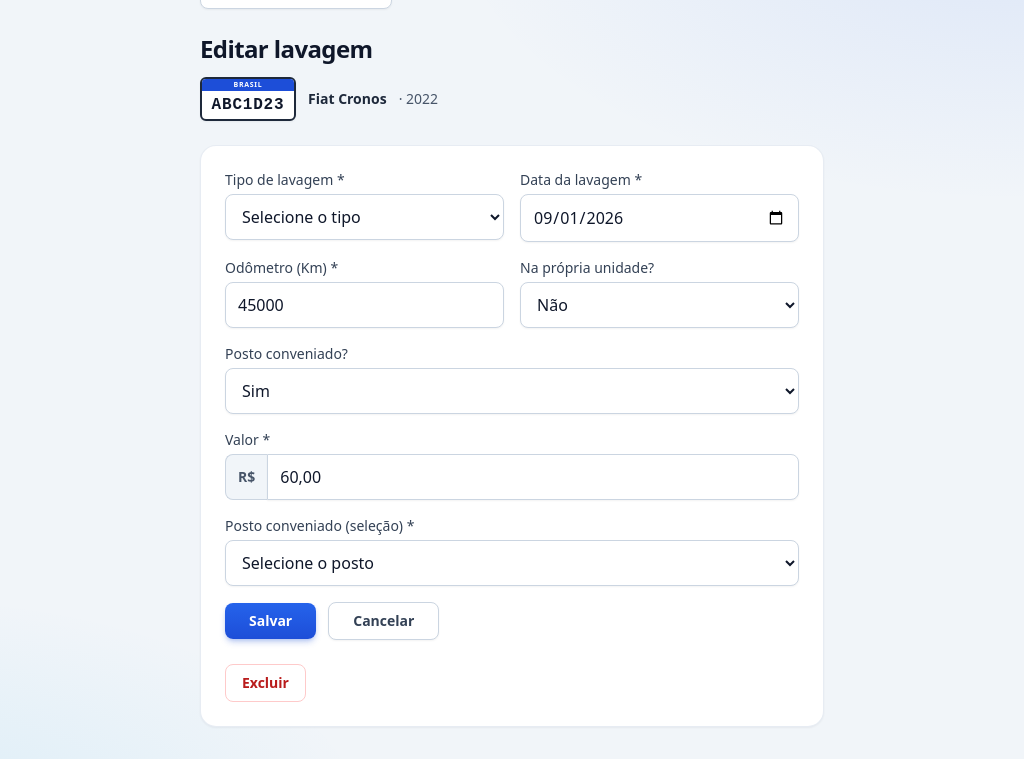
Test: LavagemFormPage — exclusão (Req. 9.1–9.5 / R17/R18) › Req. 9.5: falha na exclusão exibe toast de erro e NÃO navega
(page scrolled)
Check: the date field labelled "Data da lavagem *" holds "2026-09-01", box [520, 194, 799, 242]
Click the button "Excluir" at (266, 683), box [225, 664, 306, 702]
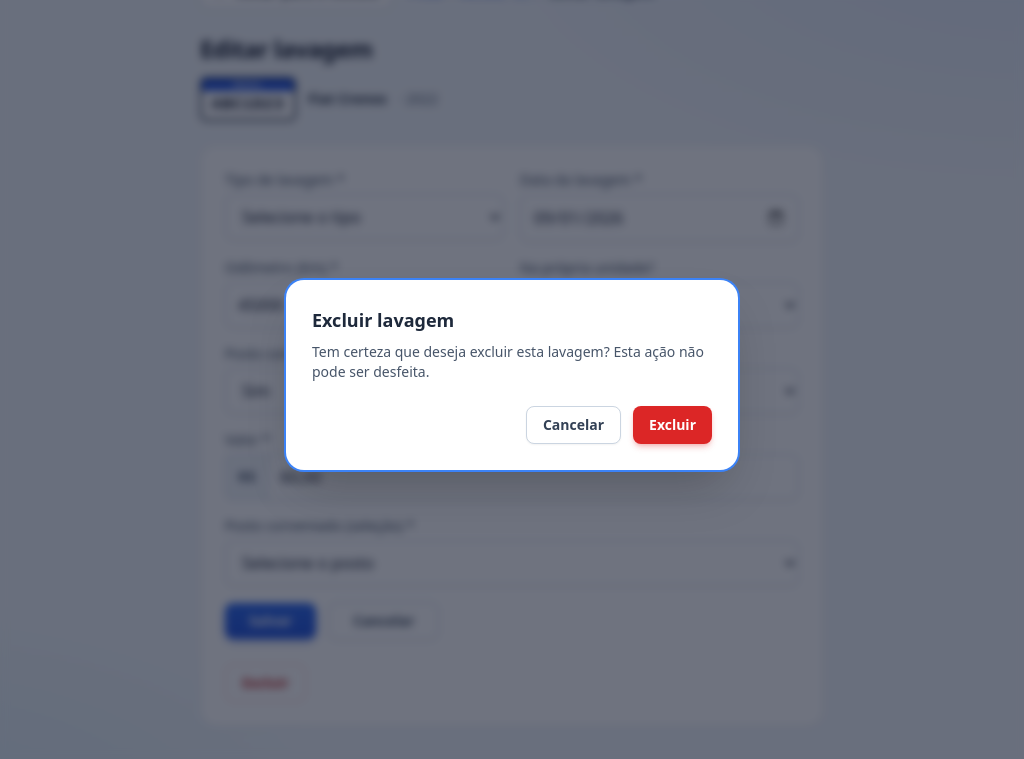
Click the button "Excluir" below "Excluir lavagem" at (672, 425), box [633, 406, 712, 444]
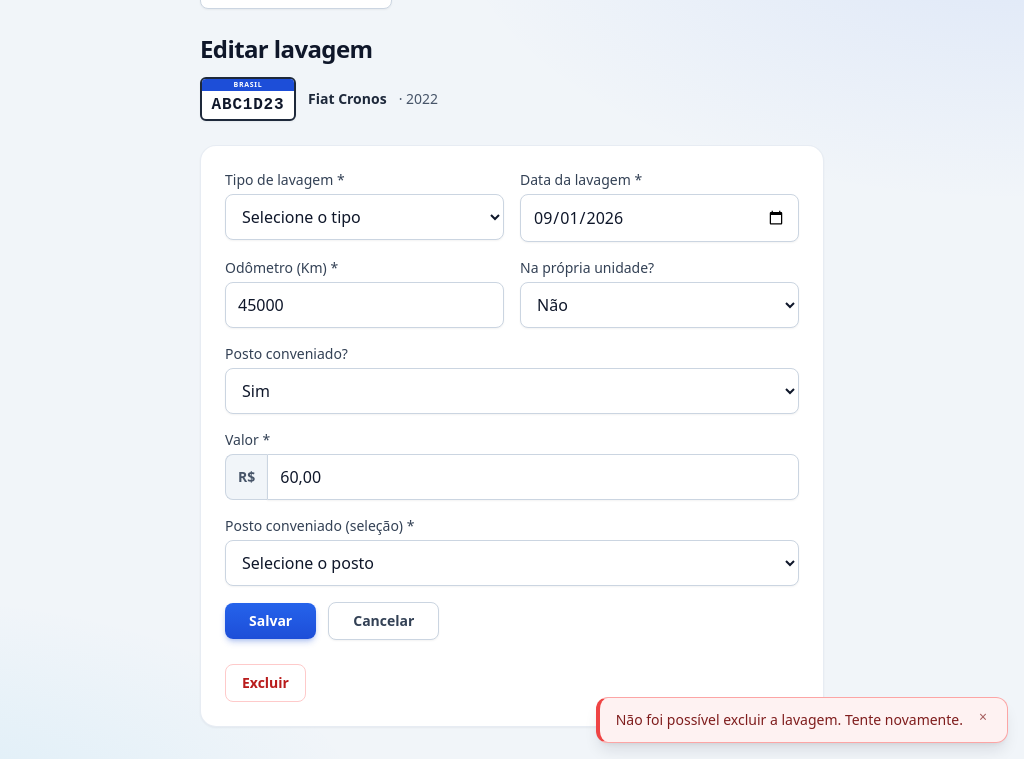
Check: the text "Não foi possível excluir a lavagem. Tente novamente." is shown, box [616, 710, 963, 730]
